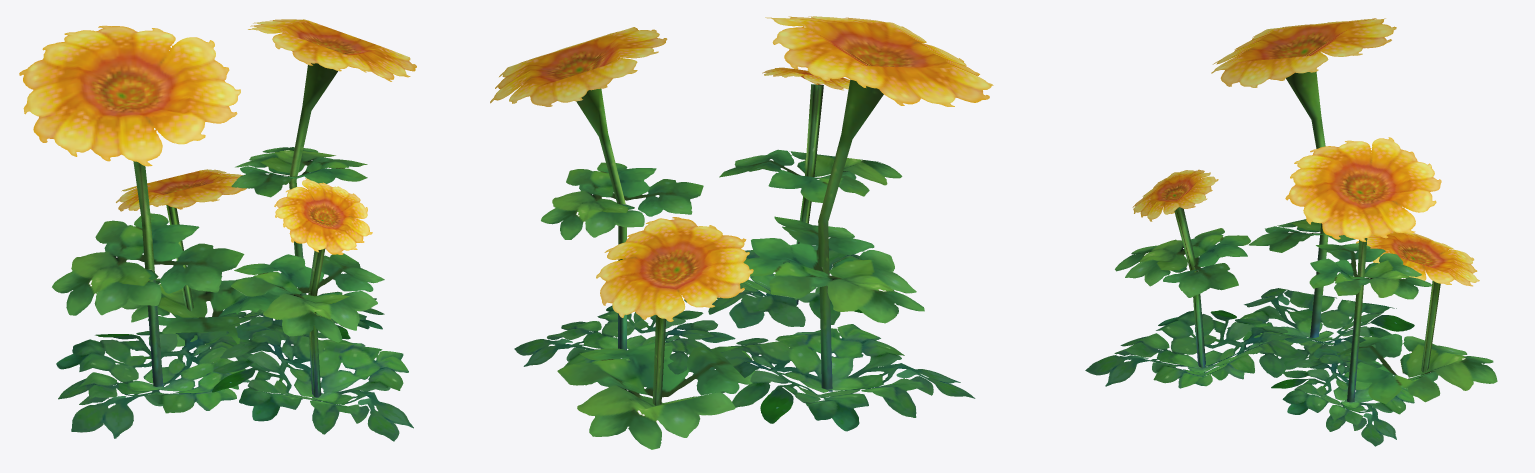
File: map_1003_slzw_02.FBX
3 renders of one model, left to right at view 1: azimuth 30°, elevation 25°; view 2: azimuth 150°, elevation 25°; view 3: azimuth 270°, elevation 25°, orthographic. The views are drawn at different scales.
Visible parts, largest first — view 1: map_1003_slzw_02; view 2: map_1003_slzw_02; view 3: map_1003_slzw_02.
Part boxes in pixels (x1,y1,x2,y2): map_1003_slzw_02: (19, 19, 416, 441); map_1003_slzw_02: (490, 16, 993, 449); map_1003_slzw_02: (1085, 18, 1497, 446).
Bounding box in the file's own units: 8.79 × 6.28 × 8.65.
